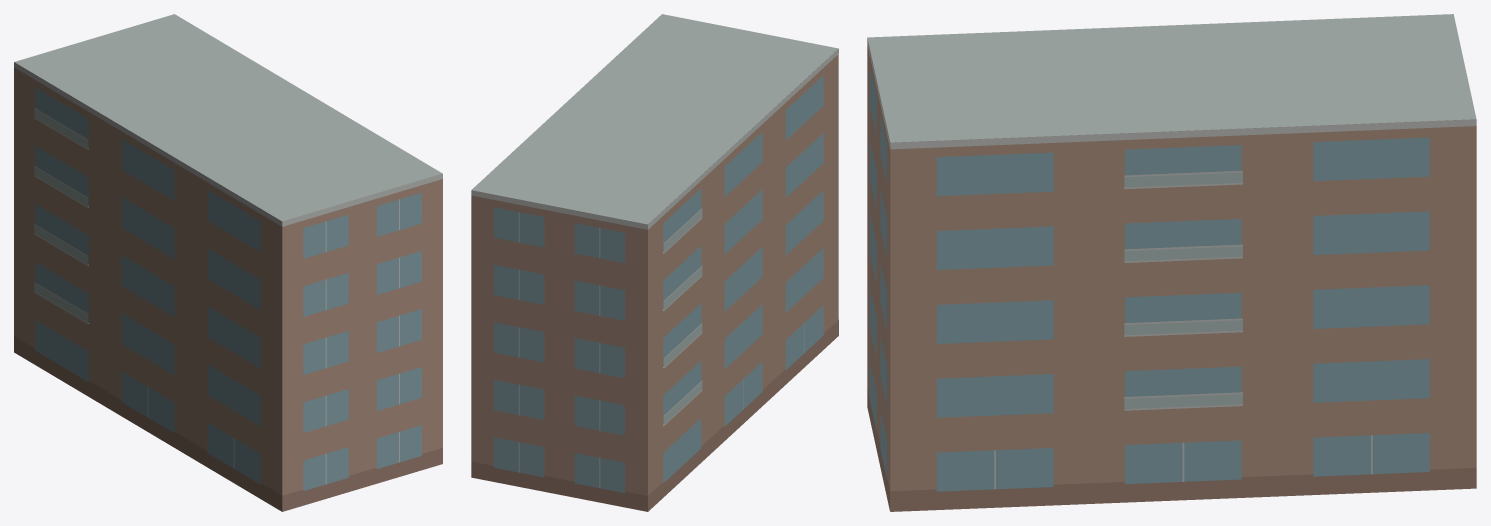
The model's file is survey-upis-32918081.glb.
3 views of the same model, side by side, from view 1: azimuth 30°, elevation 25°; view 2: azimuth 150°, elevation 25°; view 3: azimuth 270°, elevation 25° (orthographic). The views are drawn at different scales.
Visible parts, largest first — view 1: survey-upis-32918081.tmp; view 2: survey-upis-32918081.tmp; view 3: survey-upis-32918081.tmp.
Part boxes in pixels (x1,y1,x2,y2): survey-upis-32918081.tmp: [14, 14, 442, 511]; survey-upis-32918081.tmp: [471, 14, 838, 511]; survey-upis-32918081.tmp: [867, 14, 1476, 511].
Bounding box in the file's own units: 9.87 × 13.2 × 19.75.
